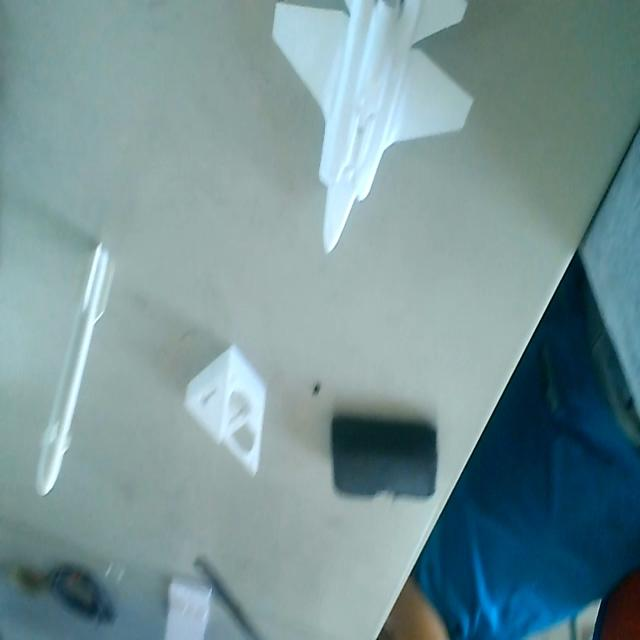Jet: (266, 0, 479, 263)
Rocket: (32, 238, 118, 501)
